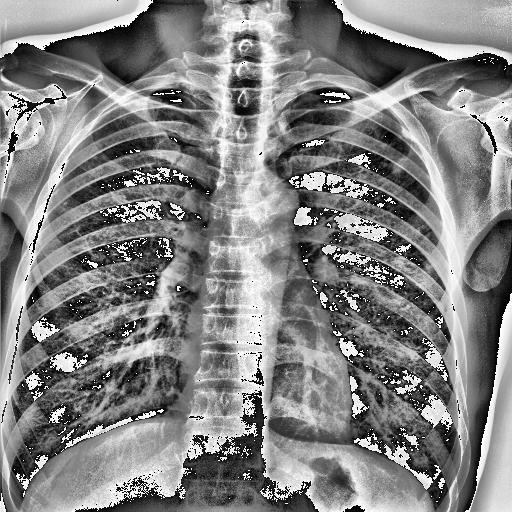0- Aortic enlargement: (240, 172, 299, 228)
11- Pleural thickening: (389, 110, 416, 144), (399, 117, 419, 142), (400, 124, 420, 144)
13- Pulmonary fibrosis: (376, 138, 408, 174), (391, 152, 414, 174), (392, 156, 409, 173)
7- Lung Opacity: (392, 156, 409, 173)
8- Nodule-Mass: (62, 201, 67, 206)
